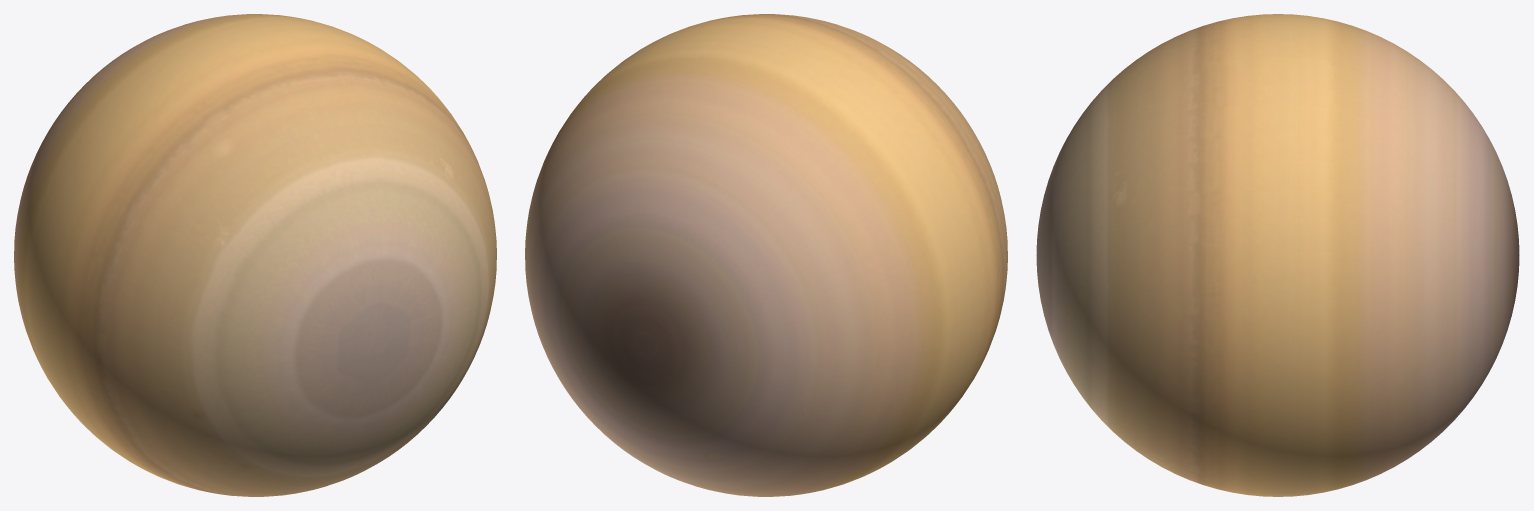
Rendered from saturn.obj.
3 views of the same model, side by side, from view 1: azimuth 30°, elevation 25°; view 2: azimuth 150°, elevation 25°; view 3: azimuth 270°, elevation 25° (orthographic).
Parts seen in each view (by area): view 1: Sphere001; view 2: Sphere001; view 3: Sphere001.
Part boxes in pixels (x1,y1,x2,y2): Sphere001: [14, 14, 496, 496]; Sphere001: [525, 14, 1007, 496]; Sphere001: [1036, 14, 1519, 496].
Size of the model in its own units: 100 by 100 by 100.
1 material, 1 textured.
